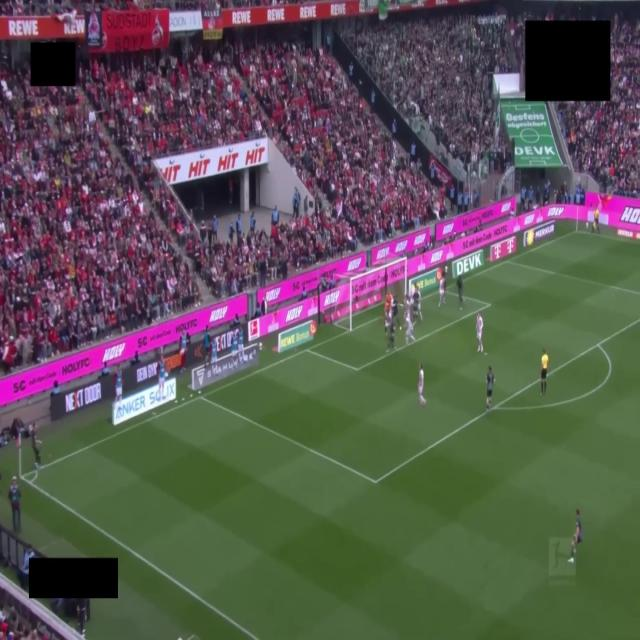player: (568, 510, 582, 563), (31, 424, 41, 469), (405, 306, 415, 344), (486, 367, 494, 411), (418, 364, 426, 406), (413, 285, 422, 322), (438, 268, 446, 306), (392, 296, 401, 328), (387, 312, 394, 351), (384, 294, 391, 333), (477, 313, 483, 352), (457, 275, 463, 310), (385, 310, 392, 336), (385, 294, 391, 315)
referee: (541, 350, 548, 396)
